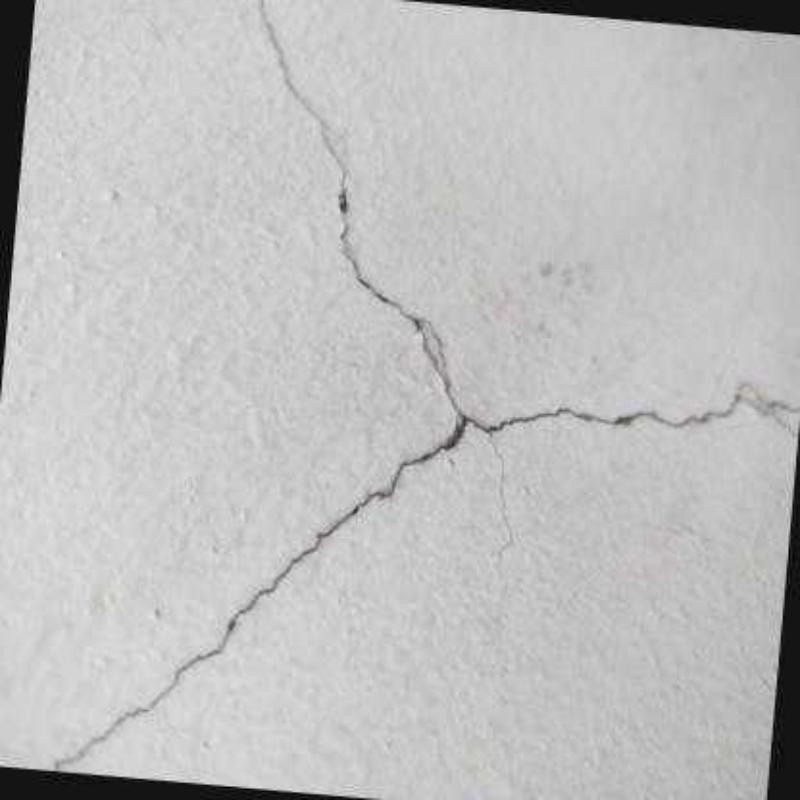crack: (55, 3, 798, 772), (733, 383, 798, 417)
